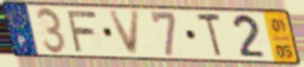2: (231, 11, 272, 63)
3: (35, 5, 68, 56)
7: (148, 9, 180, 59)
F: (64, 9, 99, 54)
T: (195, 11, 224, 60)
V: (107, 9, 143, 57)
